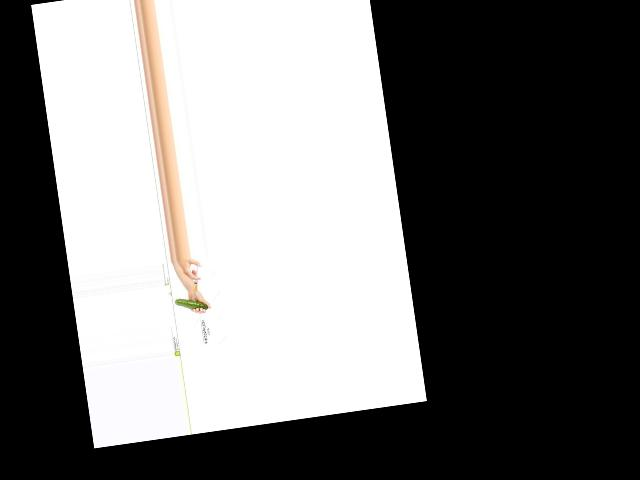cucumber: (174, 294, 208, 313)
